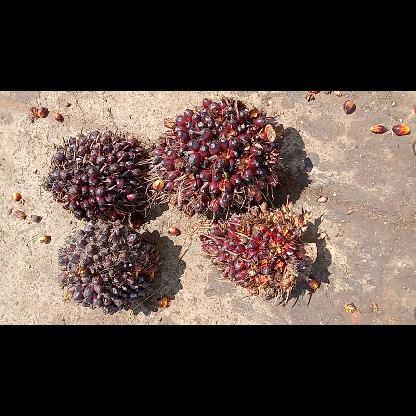Kurang masak: (144, 93, 282, 224), (198, 194, 316, 304), (44, 127, 150, 225), (58, 218, 160, 314)
